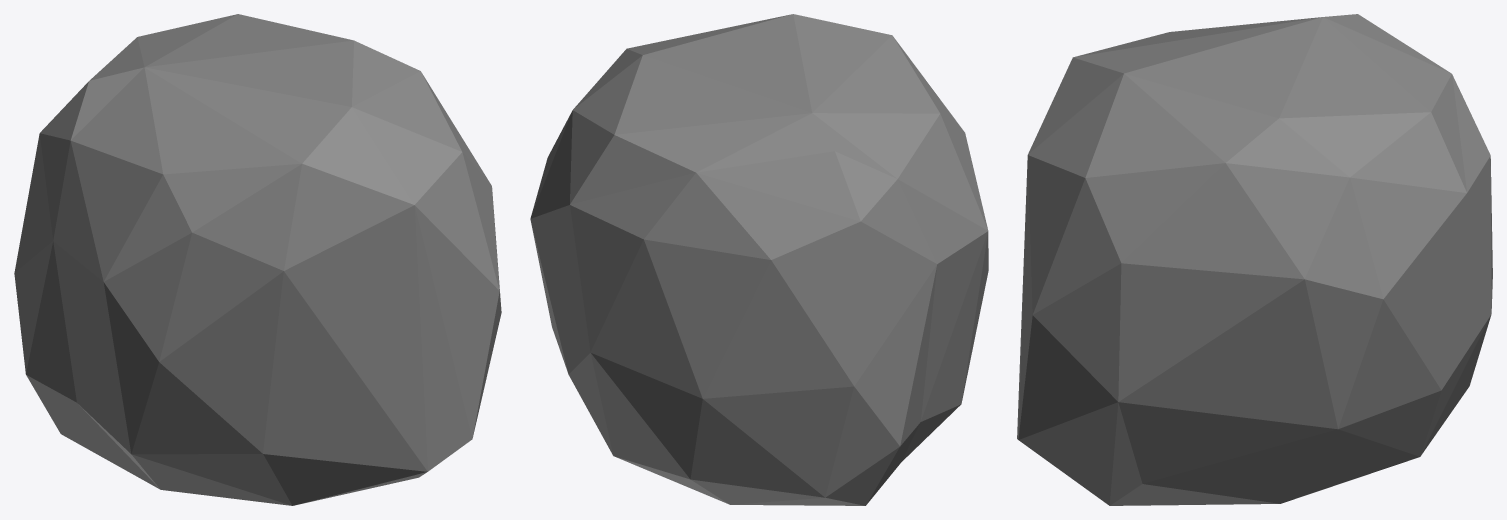
File: Rock_Small_1.glb
3 renders of one model, left to right at view 1: azimuth 30°, elevation 25°; view 2: azimuth 150°, elevation 25°; view 3: azimuth 270°, elevation 25°, orthographic. The views are drawn at different scales.
Parts seen in each view (by area): view 1: Rock_Small_1; view 2: Rock_Small_1; view 3: Rock_Small_1.
Boxes of the visible parts, x1,y1,x2,y2 form: Rock_Small_1: [14, 14, 501, 505]; Rock_Small_1: [530, 14, 988, 505]; Rock_Small_1: [1017, 14, 1492, 505].
Size of the model in its own units: 0.8376 by 0.8405 by 0.8639.
Materials: 1 (1 with a texture image).
